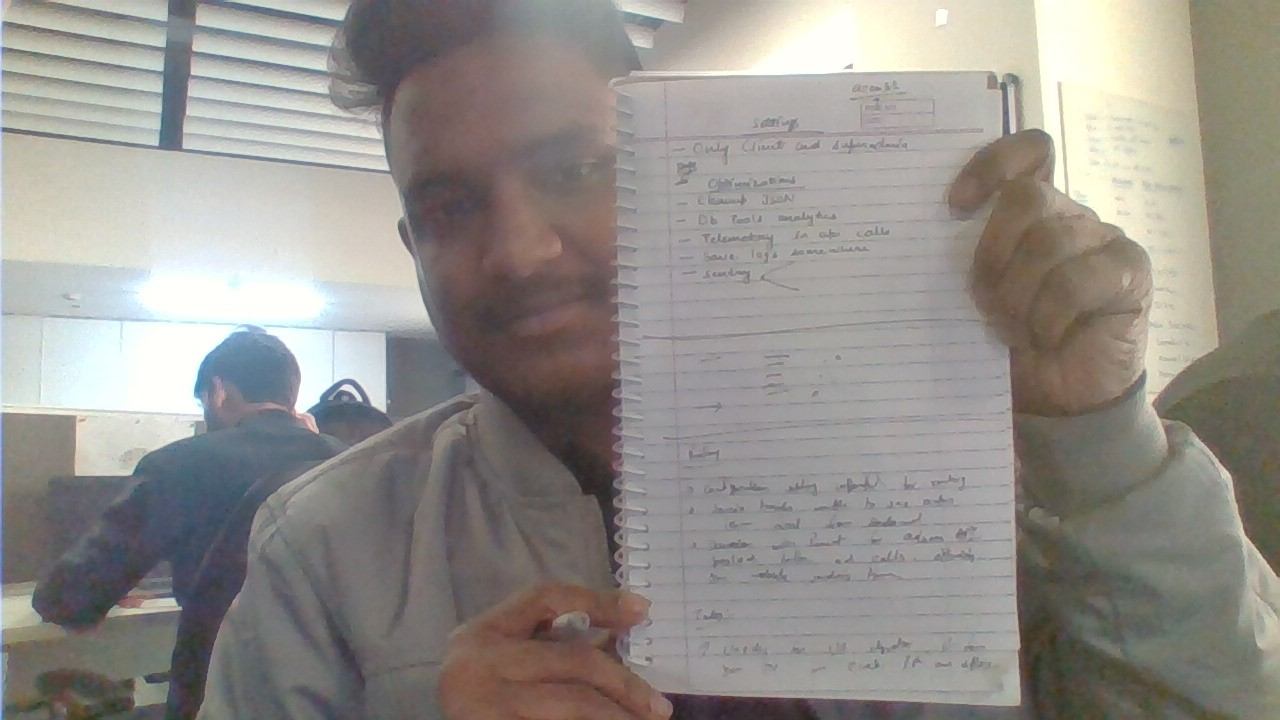notebook: (601, 69, 1033, 719)
